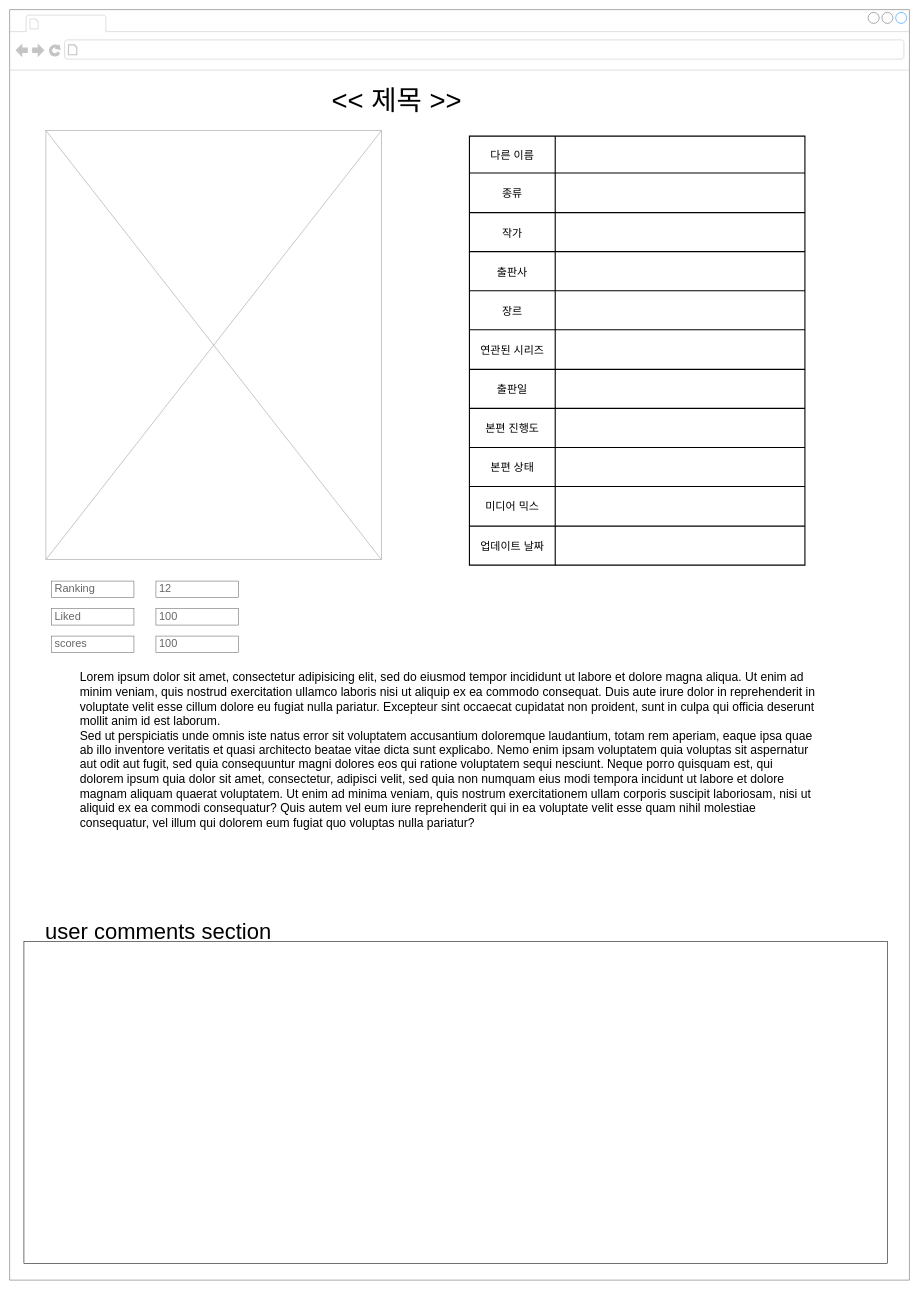
The diagram is 919 pixels wide and 1290 high, and some of its shapes have lost their labels. The shapes that lost their labels are listed below. From the top down, each one's box as (x1, y1, x2, y2) in pixels, then its label:
(42, 16, 103, 31): Page 1
(81, 42, 219, 57): https://www.draw.io
(45, 130, 381, 560): URL IMAGE
